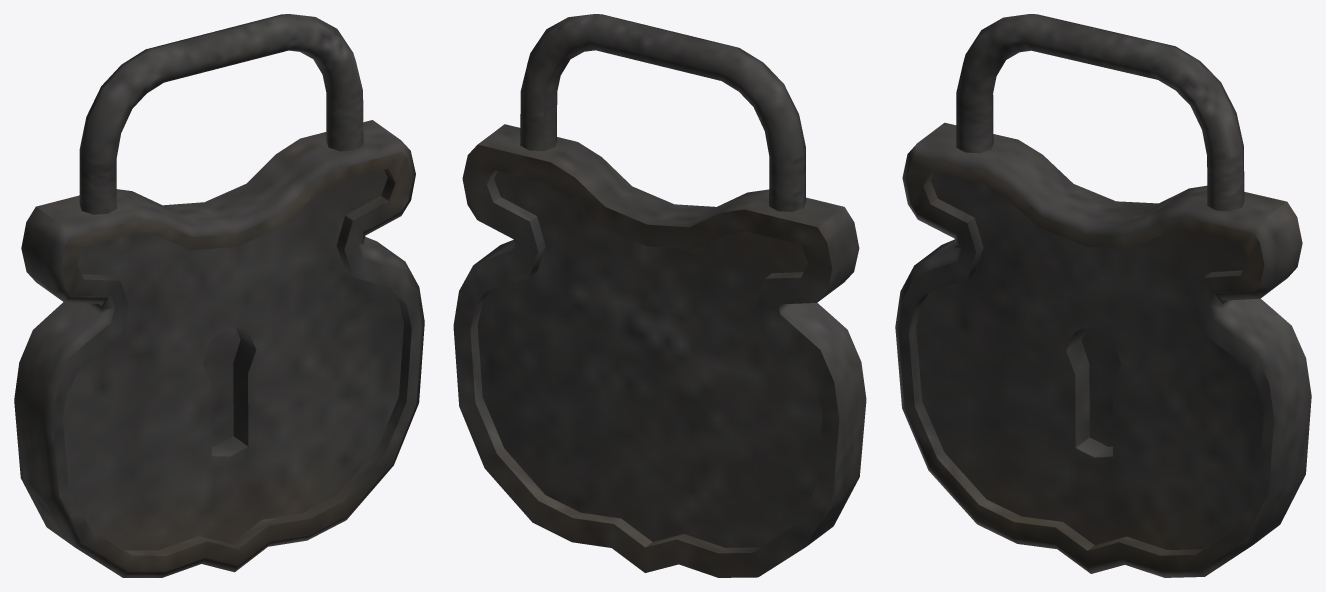
File: lock.fbx
The picture shows the model from 3 angles, left to right: view 1: azimuth 30°, elevation 25°; view 2: azimuth 150°, elevation 25°; view 3: azimuth 330°, elevation 25°; orthographic projection.
Parts seen in each view (by area): view 1: lock; view 2: lock; view 3: lock.
Part boxes in pixels (box(x1,y1,x2,y2)): lock: box(14, 14, 424, 577); lock: box(453, 14, 866, 577); lock: box(895, 14, 1311, 577).
Bounding box in the file's own units: 24.64 × 32.58 × 3.77.
